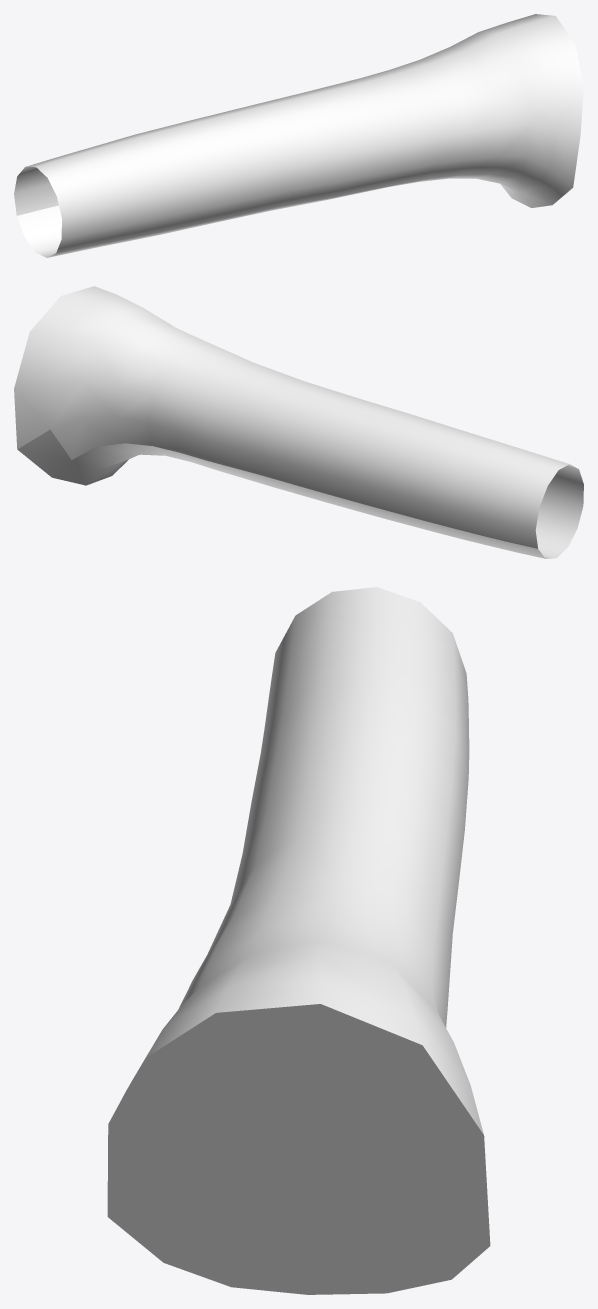
File: BrazoDer.obj
3 renders of one model, top to bottom at view 1: azimuth 30°, elevation 25°; view 2: azimuth 150°, elevation 25°; view 3: azimuth 270°, elevation 25°, orthographic. The views are drawn at different scales.
Parts seen in each view (by area): view 1: BrazoDer_Mesh_Body_0.004; view 2: BrazoDer_Mesh_Body_0.004; view 3: BrazoDer_Mesh_Body_0.004.
Part boxes in pixels (x1,y1,x2,y2): BrazoDer_Mesh_Body_0.004: [14, 14, 583, 257]; BrazoDer_Mesh_Body_0.004: [14, 286, 583, 558]; BrazoDer_Mesh_Body_0.004: [107, 587, 490, 1294].
Size of the model in its own units: 0.3994 by 0.1259 by 0.1295.
1 material, 1 textured.
